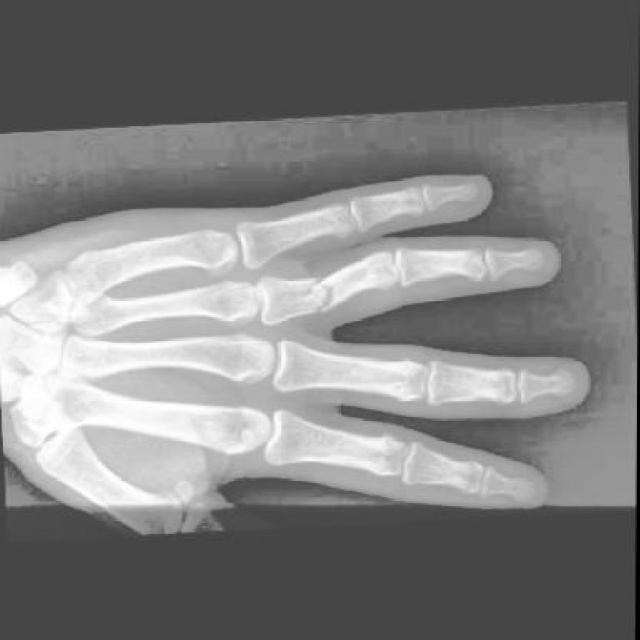Fracture: (292, 272, 345, 314)
